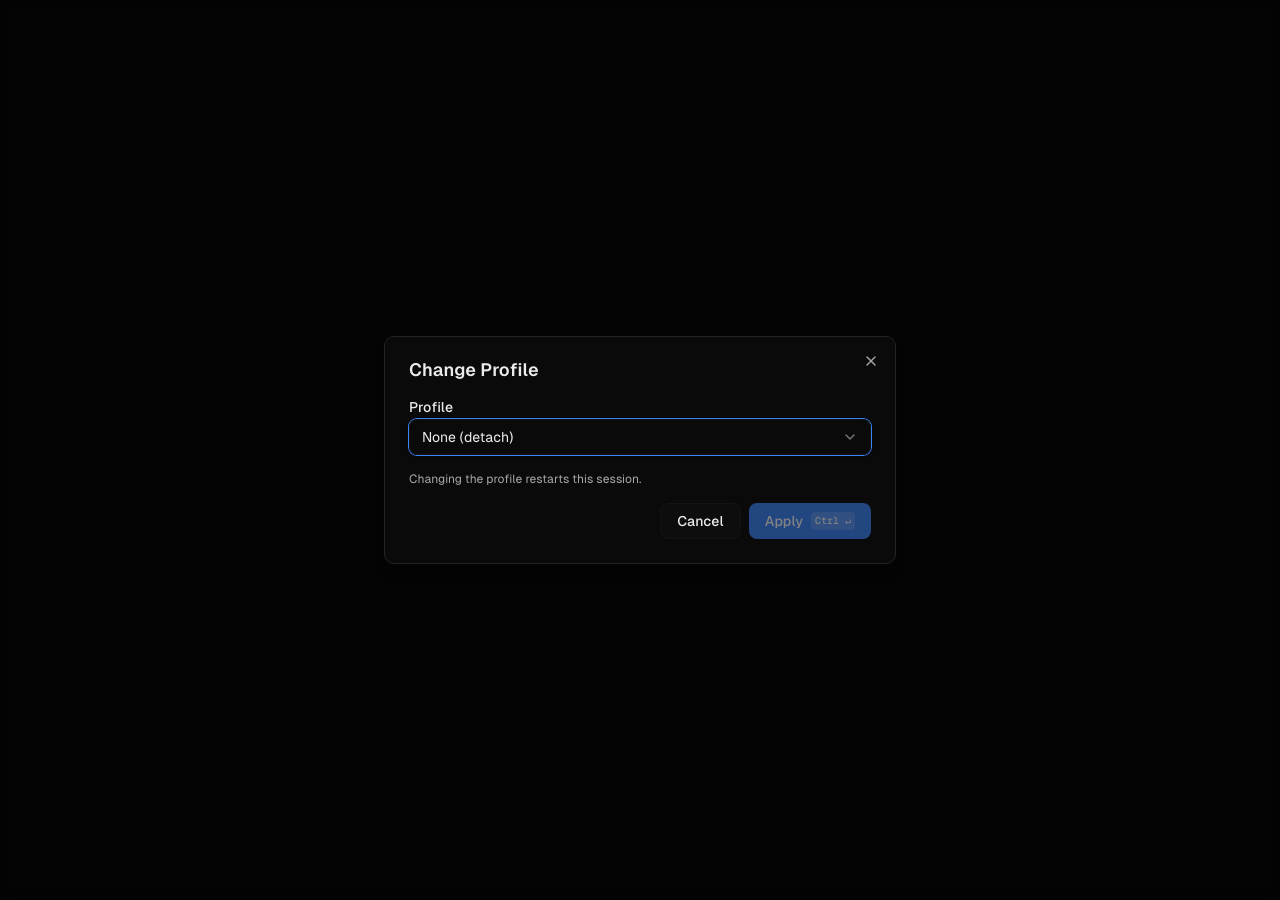
Scenario: ChangeProfileDialog busy state › does not carry the applying state to a different session
Expected: the dialog is shown, 384,336 -> 896,564
What coordinates should you click on to do the following:
click the dropdown
I would click on:
 (468, 437)
Its box is 409,419 -> 871,455.
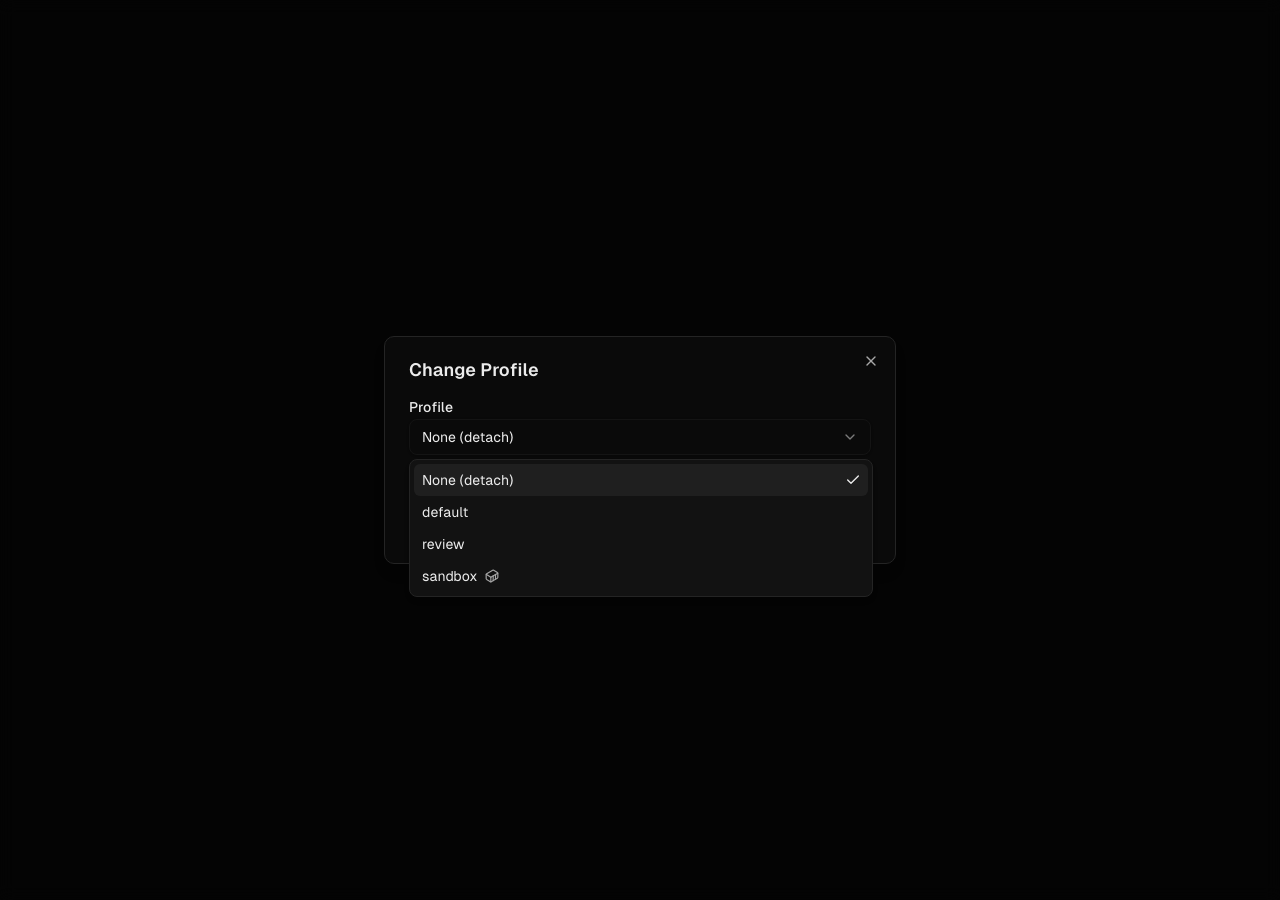
What coordinates should you click on to do the following:
click the option "default"
I would click on:
 (445, 512)
Its box is 422,504 -> 468,520.
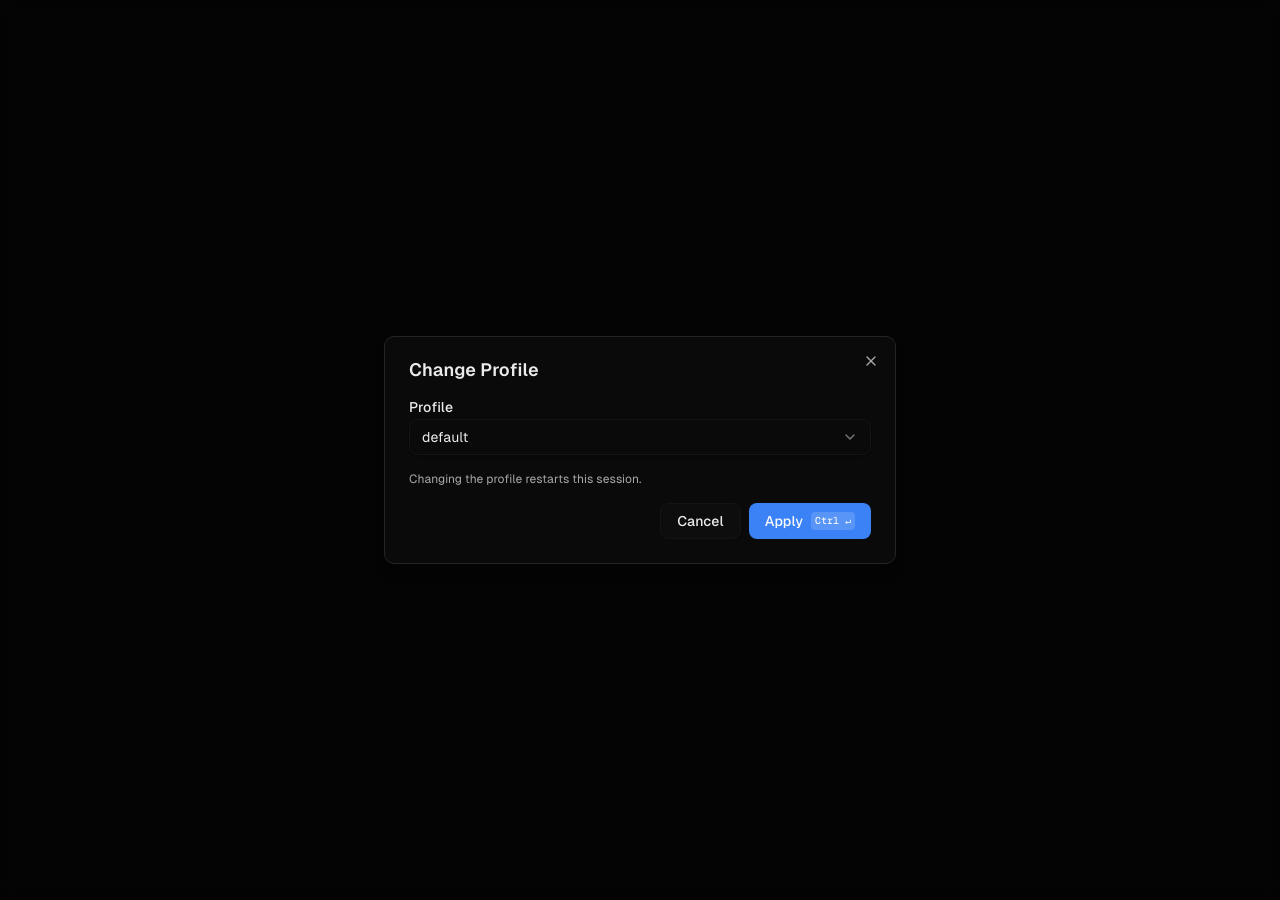
What coordinates should you click on to do the following:
click the button "Apply Ctrl ↵"
I would click on:
 (810, 521)
Its box is 749,503 -> 871,539.
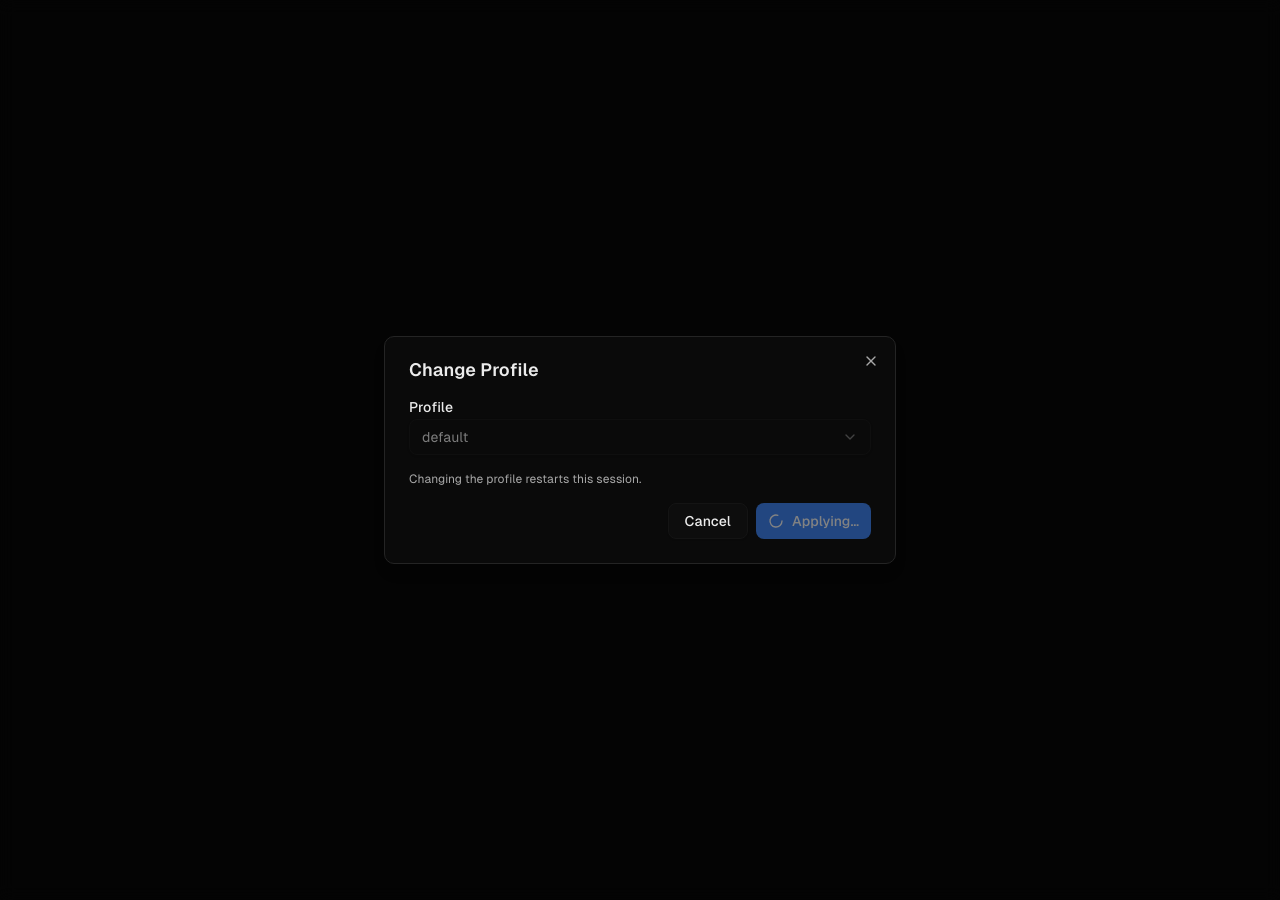
Expected: the button "Applying…" is shown, 756,503 -> 871,539
